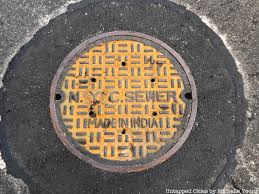manhole: (38, 17, 213, 186)
